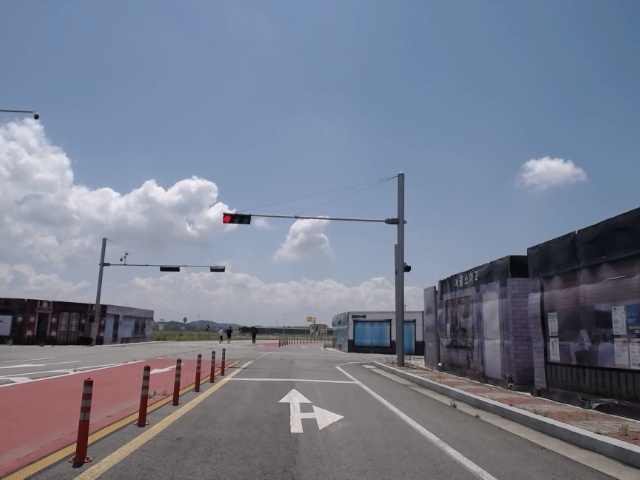red_3: (222, 213, 251, 225)
